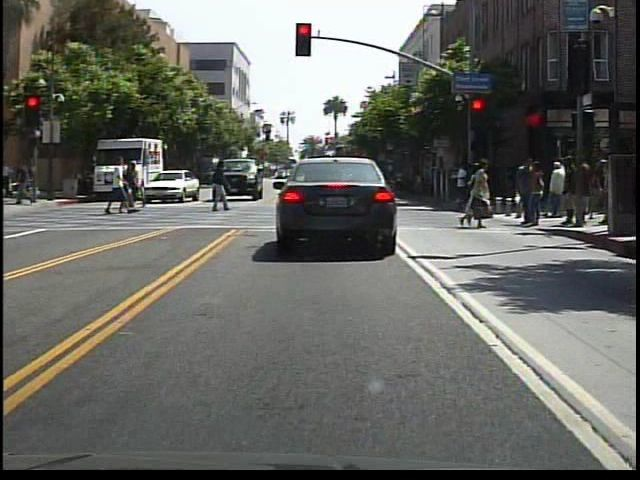person: (315, 125, 354, 240), (458, 160, 501, 232), (548, 152, 571, 224), (207, 159, 236, 216), (104, 156, 128, 220), (11, 160, 40, 207), (125, 159, 146, 213), (123, 163, 142, 215)
